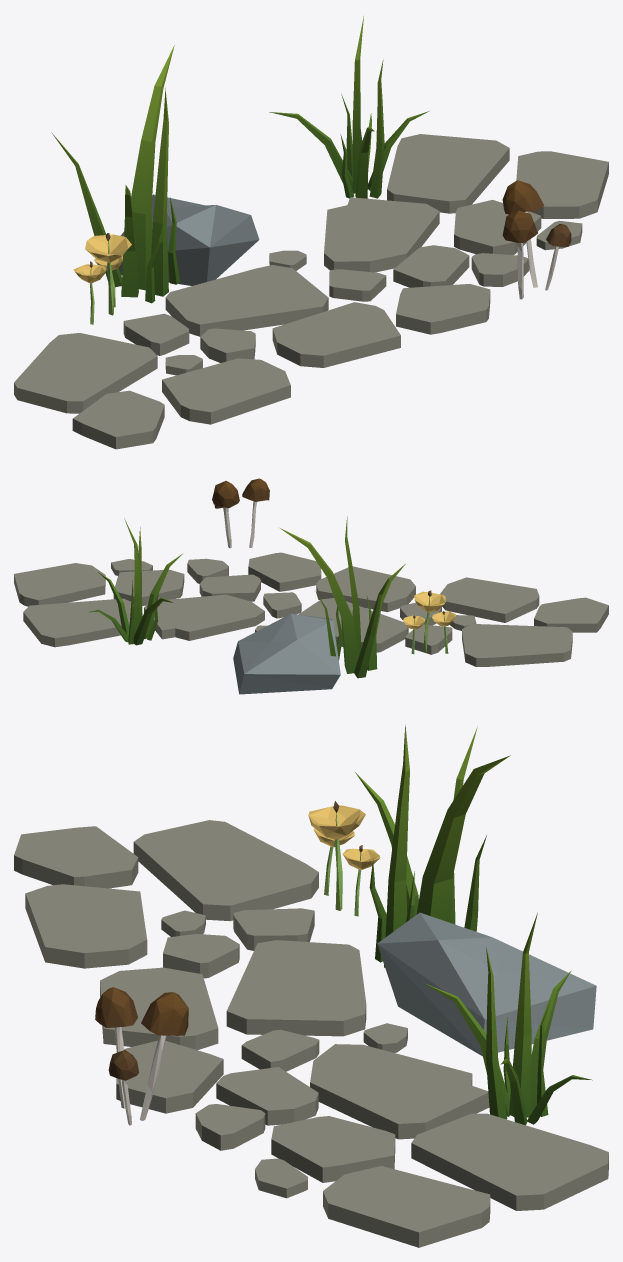
The model's file is Tile8.fbx.
3 views of the same model, one above another, from view 1: azimuth 30°, elevation 25°; view 2: azimuth 150°, elevation 25°; view 3: azimuth 270°, elevation 25° (orthographic). The views are drawn at different scales.
Visible parts, largest first — view 1: Tile8; view 2: Tile8; view 3: Tile8.
Boxes of the visible parts, <box> form: Tile8: <box>14,16,608,449</box>; Tile8: <box>14,478,608,694</box>; Tile8: <box>14,724,608,1247</box>.
Bounding box in the file's own units: 1.98 × 0.587 × 1.21.
